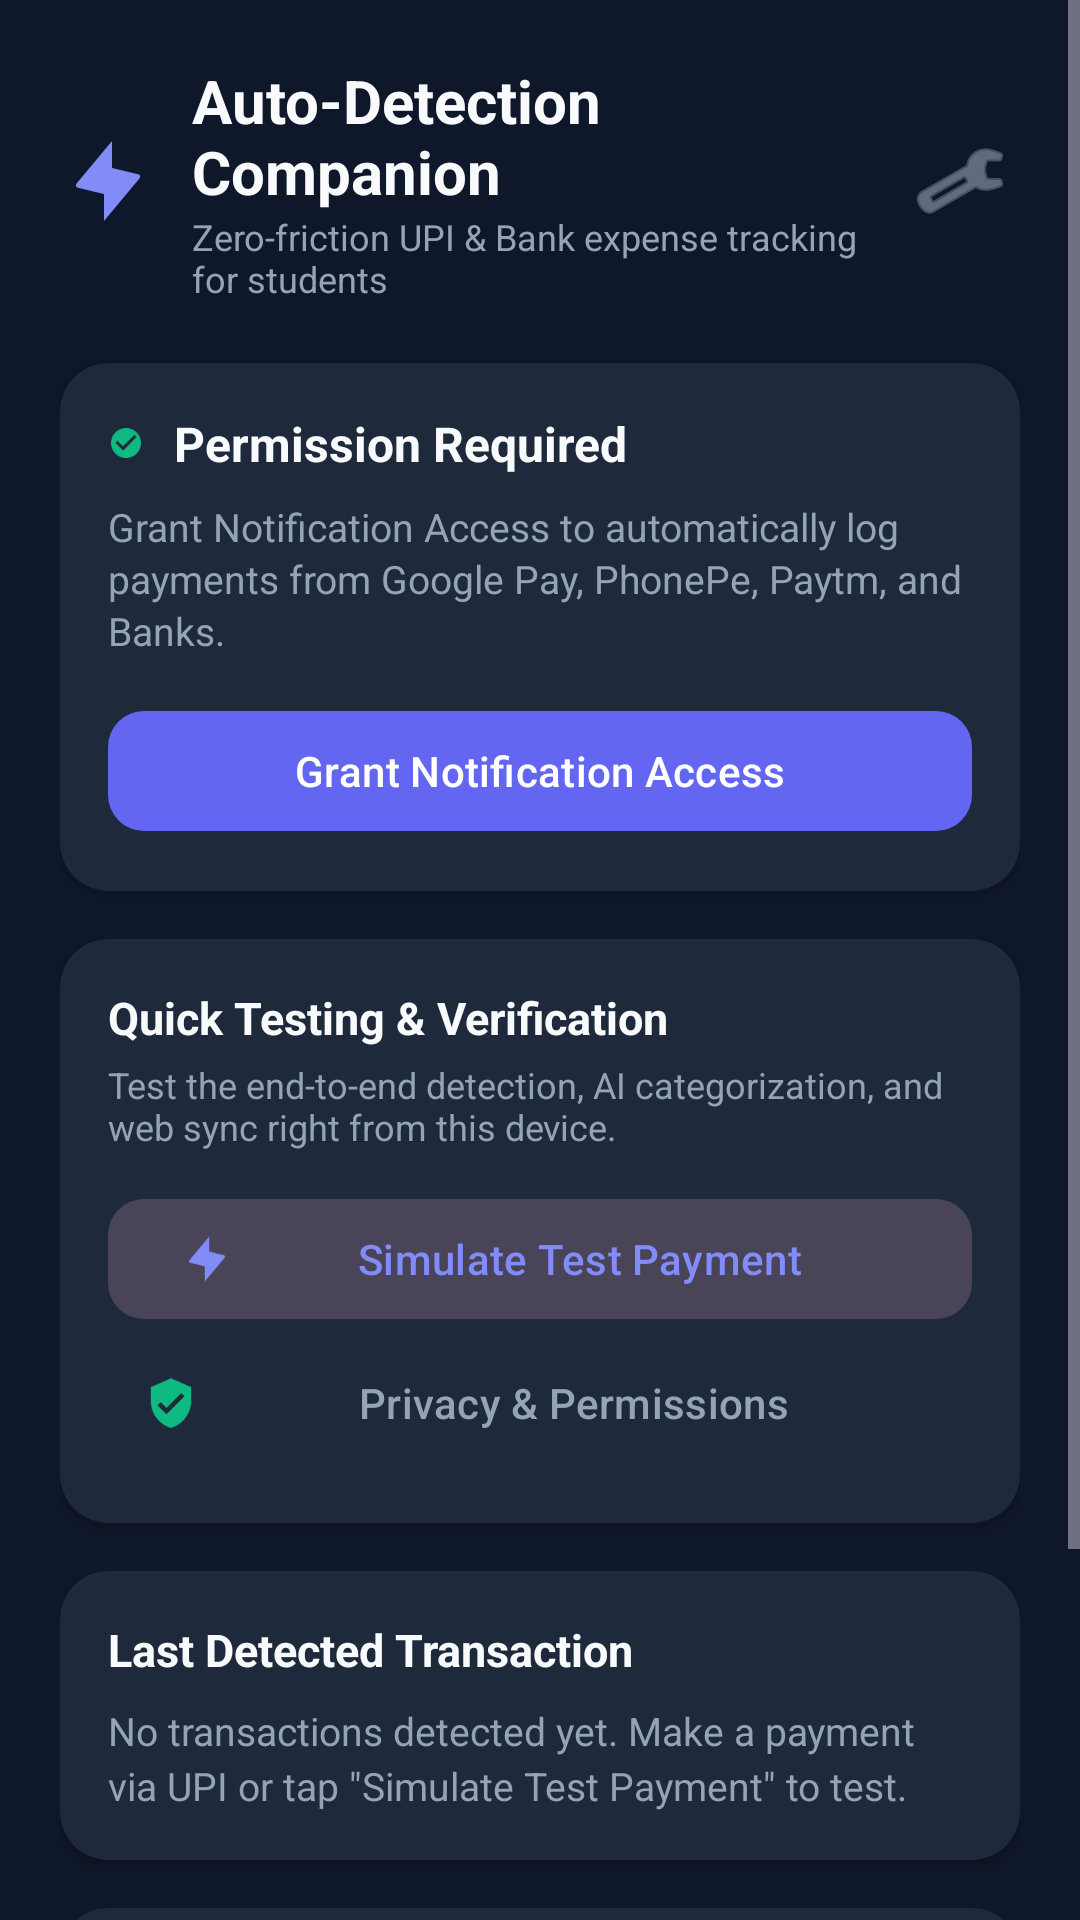

Icons on this 1080px x 1920px Android screen, each with its box as (x1, y1, x2, y2):
check circle: (111, 428, 141, 458)
lightning: (76, 141, 140, 221)
Server & Student Settings: (917, 148, 1003, 214)
